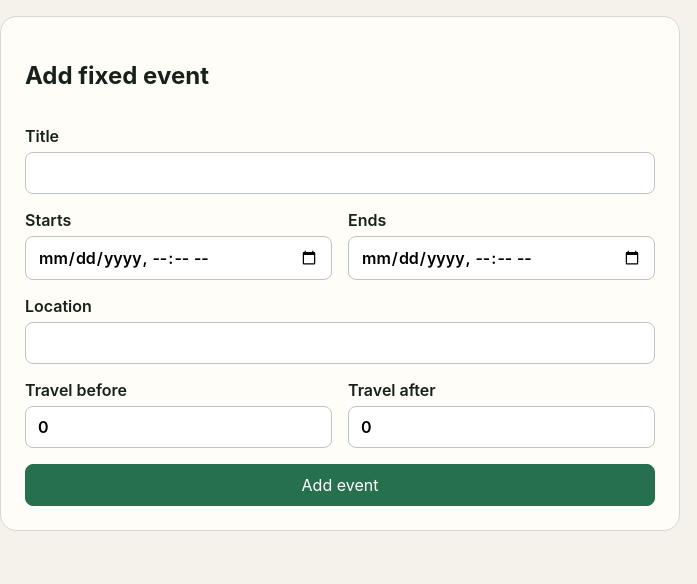
Test: explains when the event end is before its start
Type "Class" into the field labelled "Title".
click(340, 173); type("Class")  # box 25,152 -> 655,194
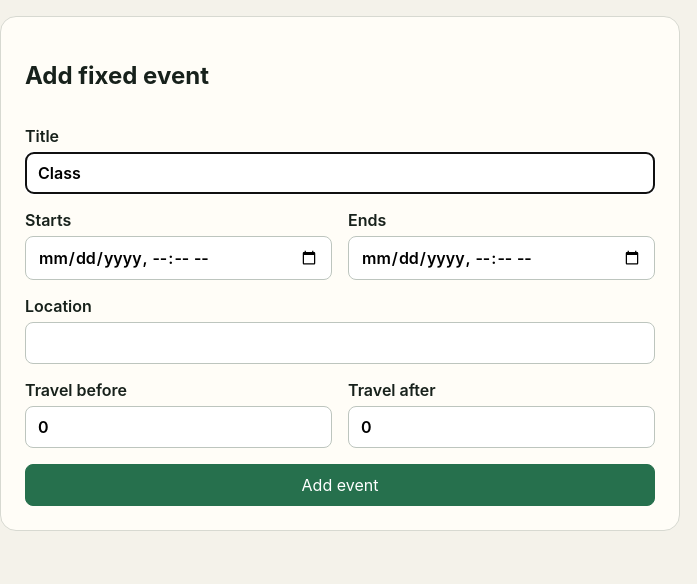
Type "2026-05-05T10:00" into the field labelled "Starts".
click(178, 258); type("2026-05-05T10:00")  # box 25,236 -> 332,280
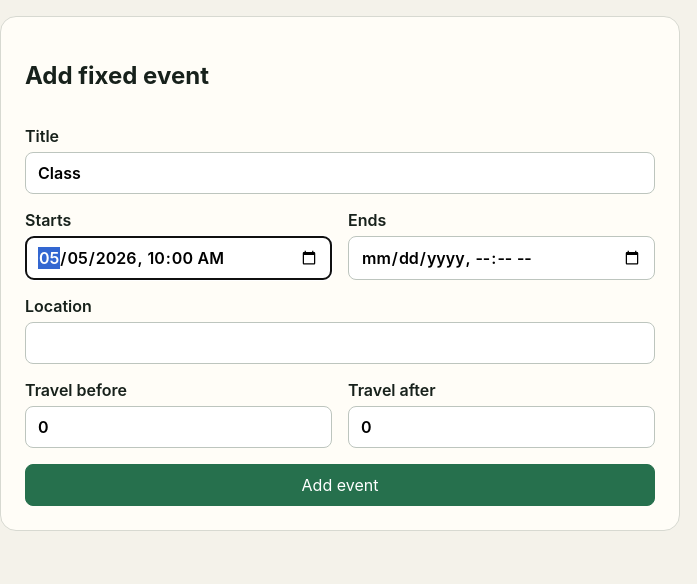
Type "2026-05-05T09:00" into the field labelled "Ends".
click(502, 258); type("2026-05-05T09:00")  # box 348,236 -> 655,280
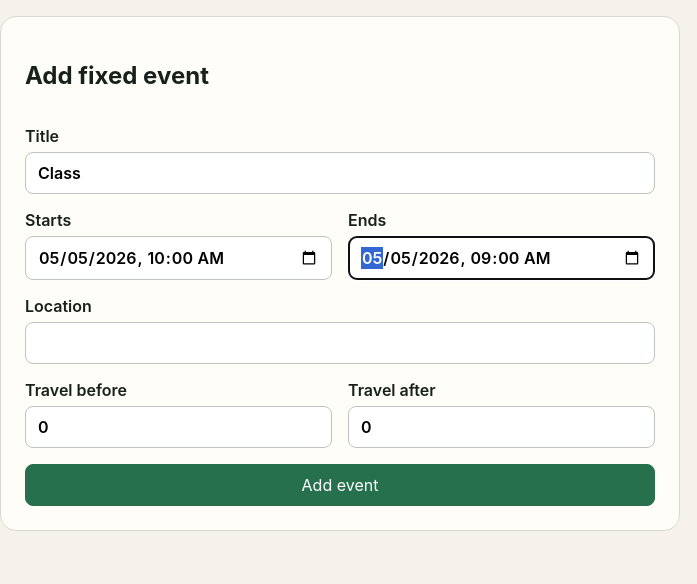
Click the button "Add event".
click(340, 485)  # box 25,464 -> 655,506
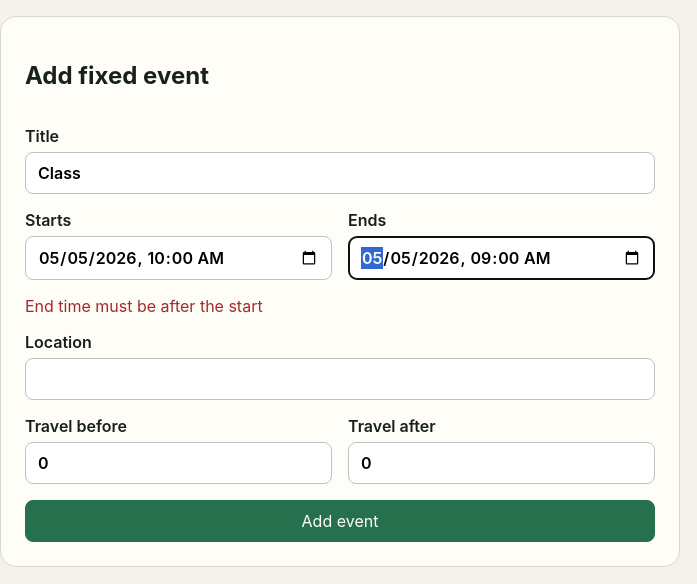
Now the text "End time must be after the start" is shown, box 25,296 -> 263,316
